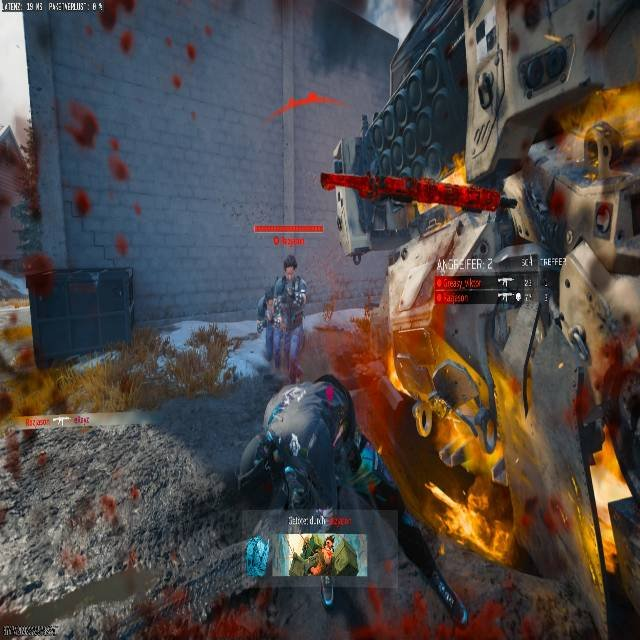head: (283, 254, 297, 278)
player: (257, 254, 308, 370)
